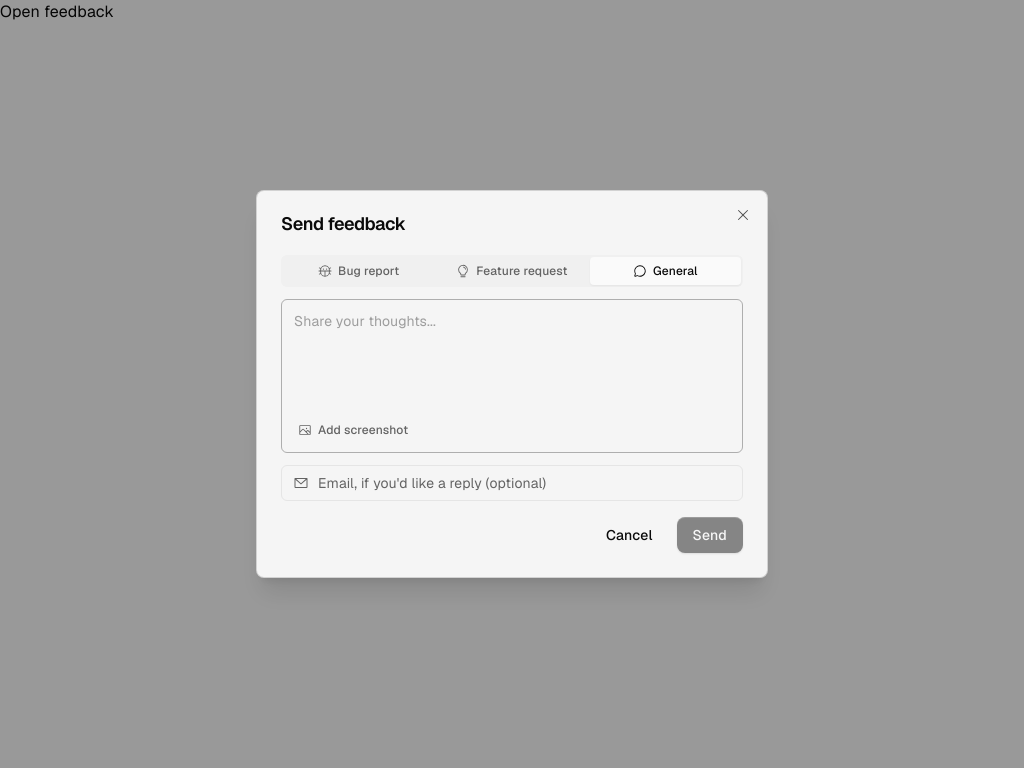
Test: FeedbackDialog › shows only the file name for Windows screenshot paths
What coordinates should you click on to do the following:
click the button "Add screenshot"
I would click on:
 (353, 430)
Its box is [290,416,416,444].
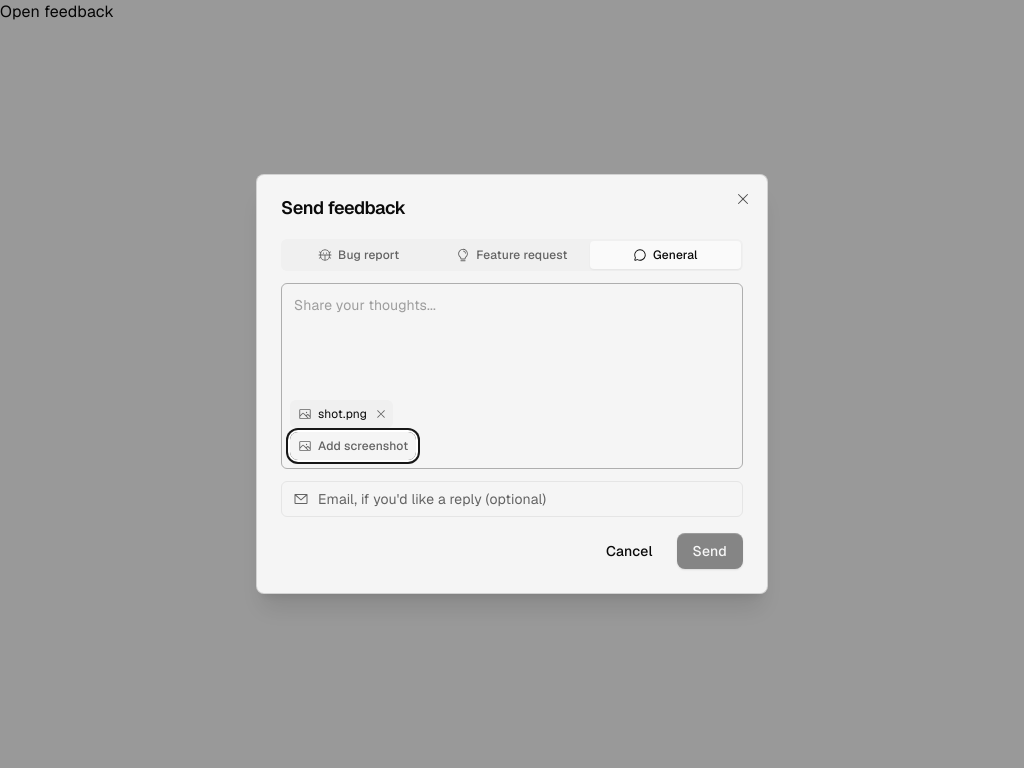
Result: the text "shot.png" is shown at [318,406,367,422]
